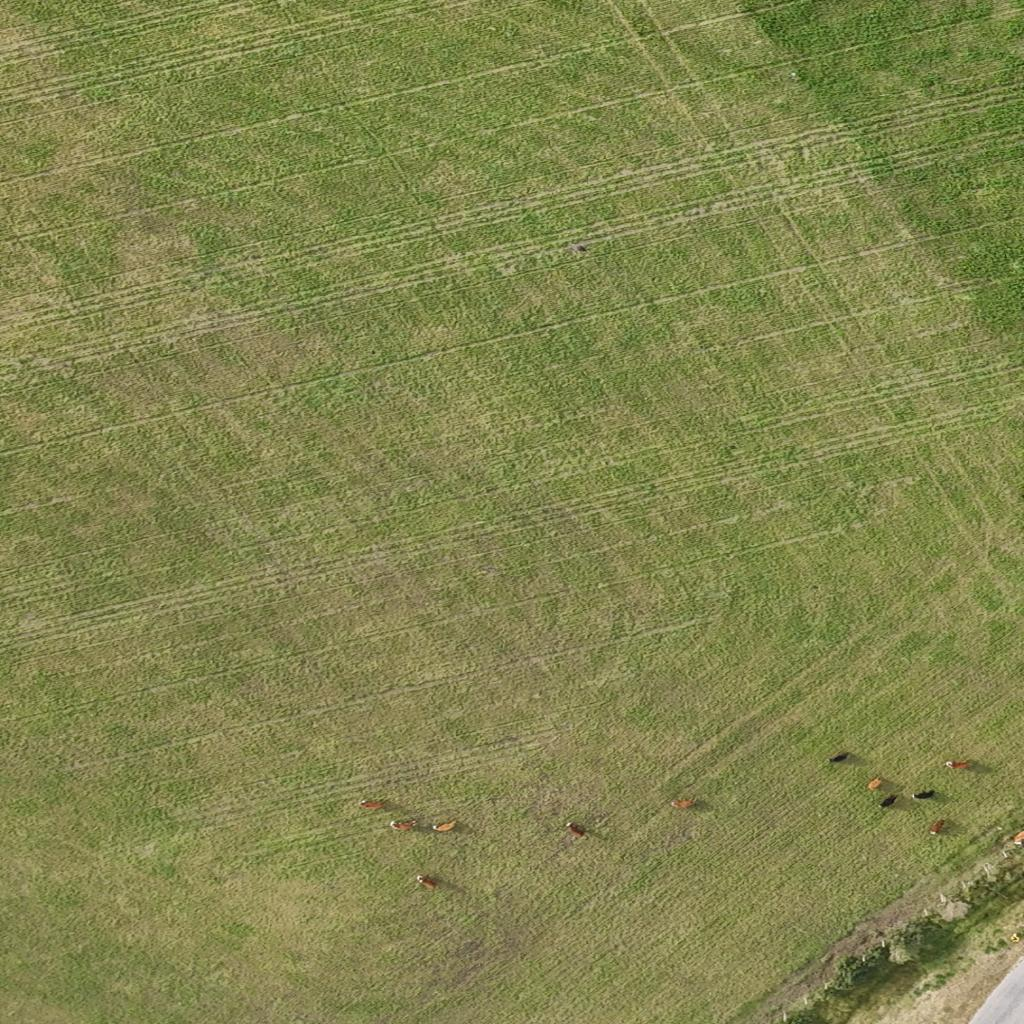cow: (565, 818, 591, 836), (415, 874, 438, 889), (672, 798, 697, 810), (943, 759, 970, 770), (360, 799, 388, 809), (912, 788, 935, 800), (879, 794, 898, 808), (433, 822, 457, 832), (392, 819, 416, 829), (866, 777, 884, 790), (828, 752, 848, 762), (1012, 830, 1024, 846), (928, 823, 942, 834)
